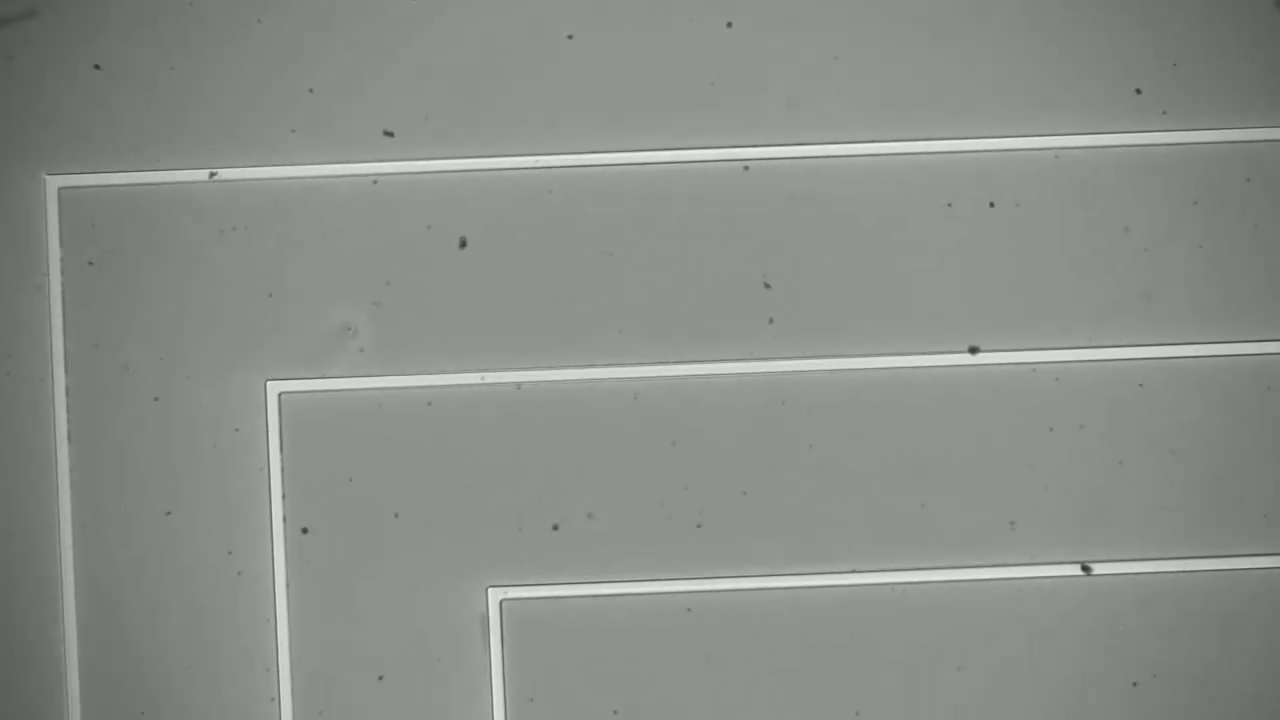stains_enbedded: (1074, 551, 1102, 588), (963, 337, 986, 372)
